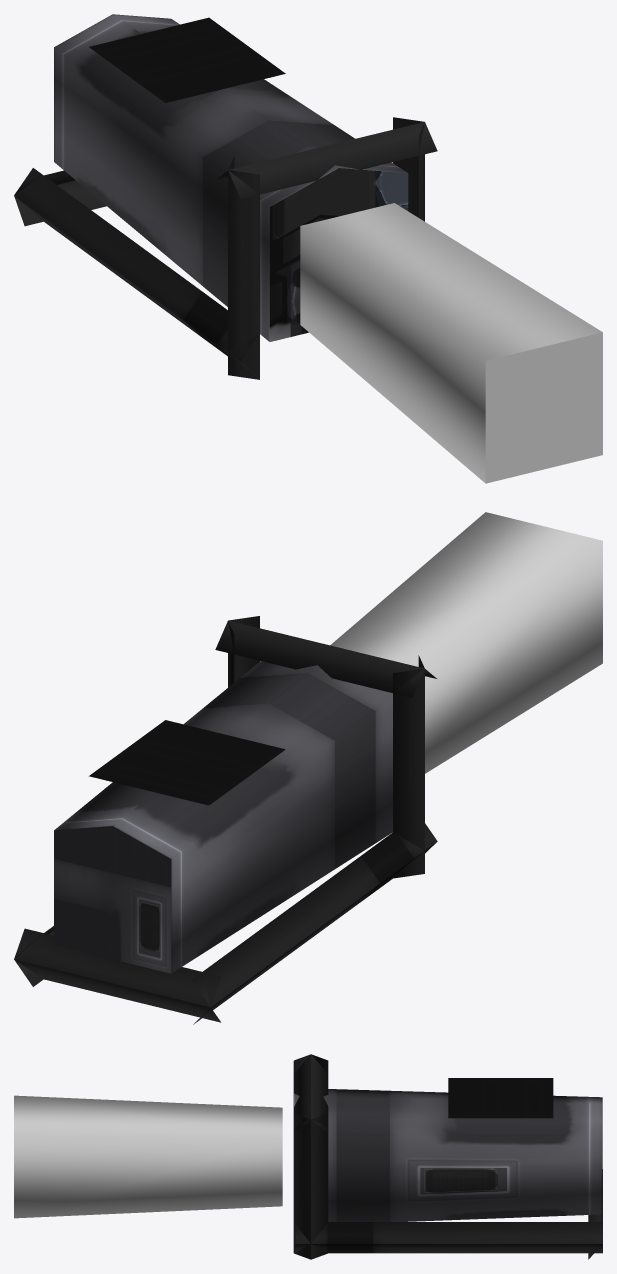
Rendered from obj_interactive_mountablespudgun_lod1.fbx.
3 views of the same model, one above another, from view 1: azimuth 30°, elevation 25°; view 2: azimuth 150°, elevation 25°; view 3: azimuth 270°, elevation 25° (orthographic). The views are drawn at different scales.
Visible parts, largest first — view 1: pPlane2; view 2: pPlane2; view 3: pPlane2.
Part boxes in pixels (bbox=[...]): pPlane2: bbox=[14, 14, 602, 483]; pPlane2: bbox=[14, 512, 602, 1024]; pPlane2: bbox=[14, 1054, 602, 1259].
Bounding box in the file's own units: 1 × 1 × 3.81.
